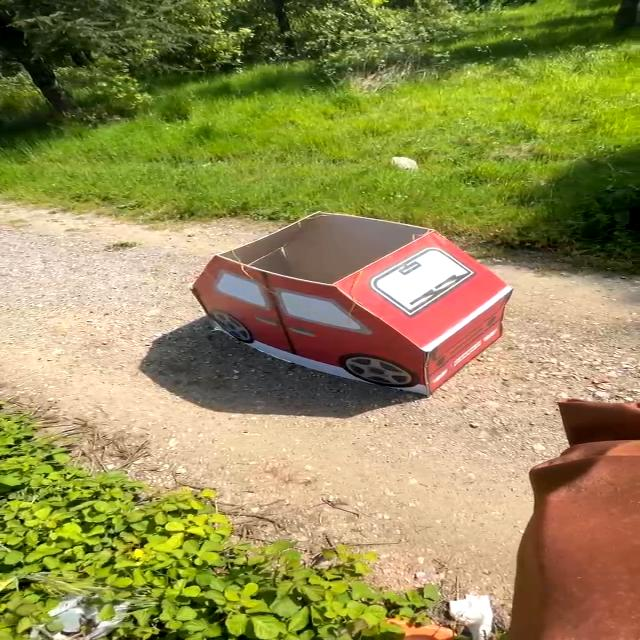red_car: (175, 203, 545, 404)
